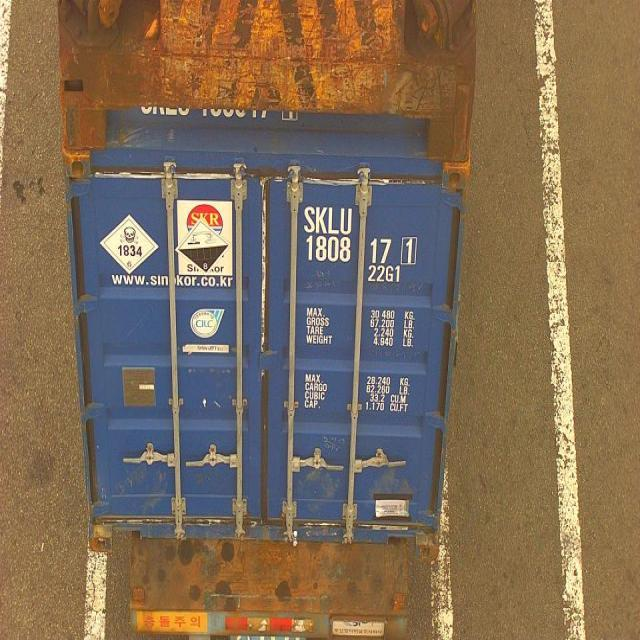ISO: (367, 264, 400, 284)
container_number: (308, 208, 420, 263)
